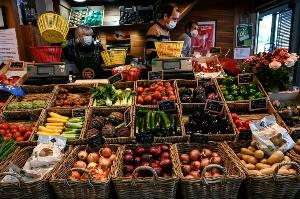bell_pepper: (231, 104, 275, 135), (219, 72, 262, 102)
eggplant: (184, 102, 238, 138), (134, 107, 182, 136)
onion: (122, 143, 172, 183), (183, 144, 231, 180), (64, 147, 116, 179)
tomato: (0, 110, 40, 142), (136, 78, 176, 106), (52, 85, 92, 109), (192, 56, 226, 78)
zucchini: (134, 108, 182, 138), (37, 110, 87, 138)
